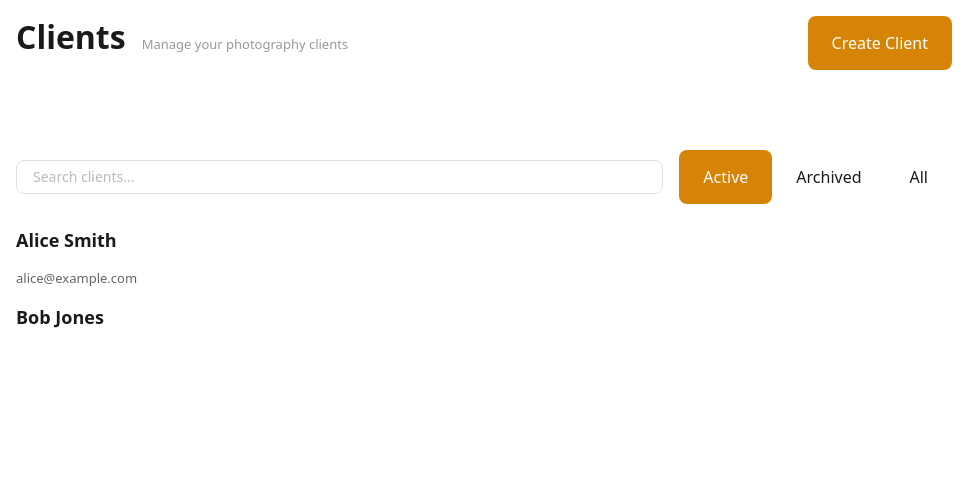
Clients › returns to list on back button click
The image size is (969, 481).
Step 1. Click the heading "Alice Smith" → (66, 240), box [16, 228, 117, 252]
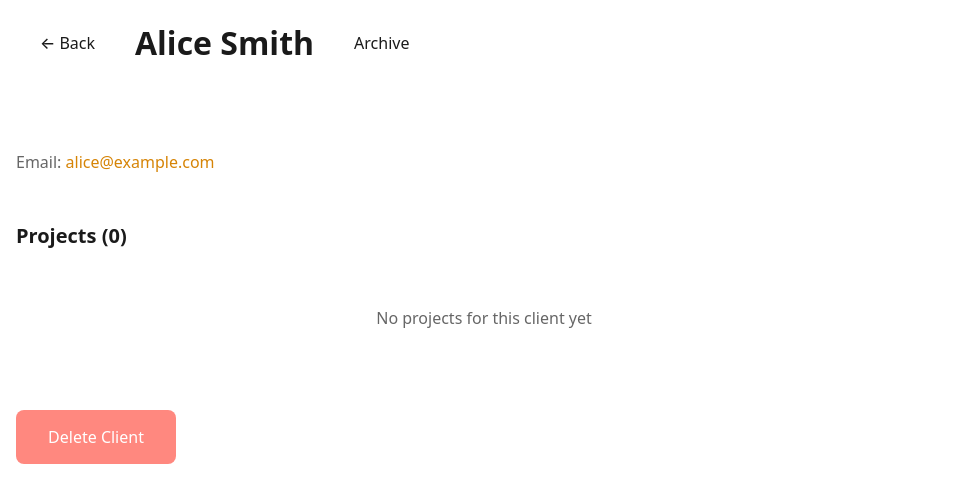
Now the button "← Back" is shown
Step 2. Click the button "← Back" → (68, 43), box [16, 16, 119, 70]
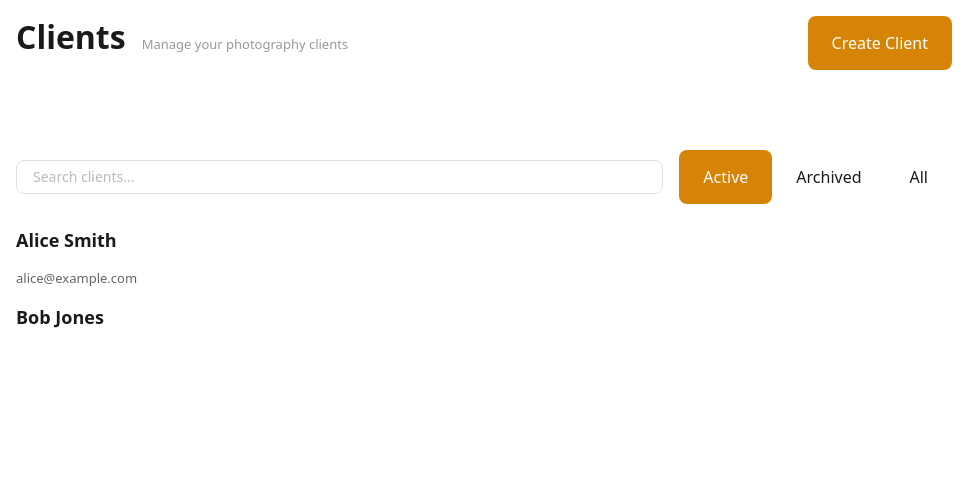
Now the button "← Back" is gone
